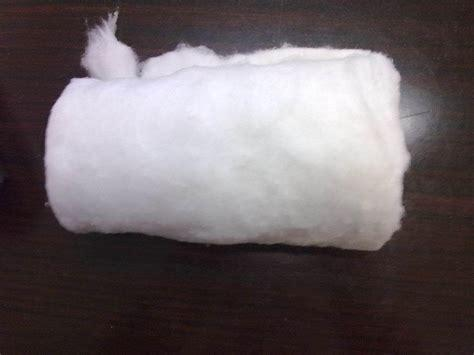cotton: (40, 14, 405, 249)
